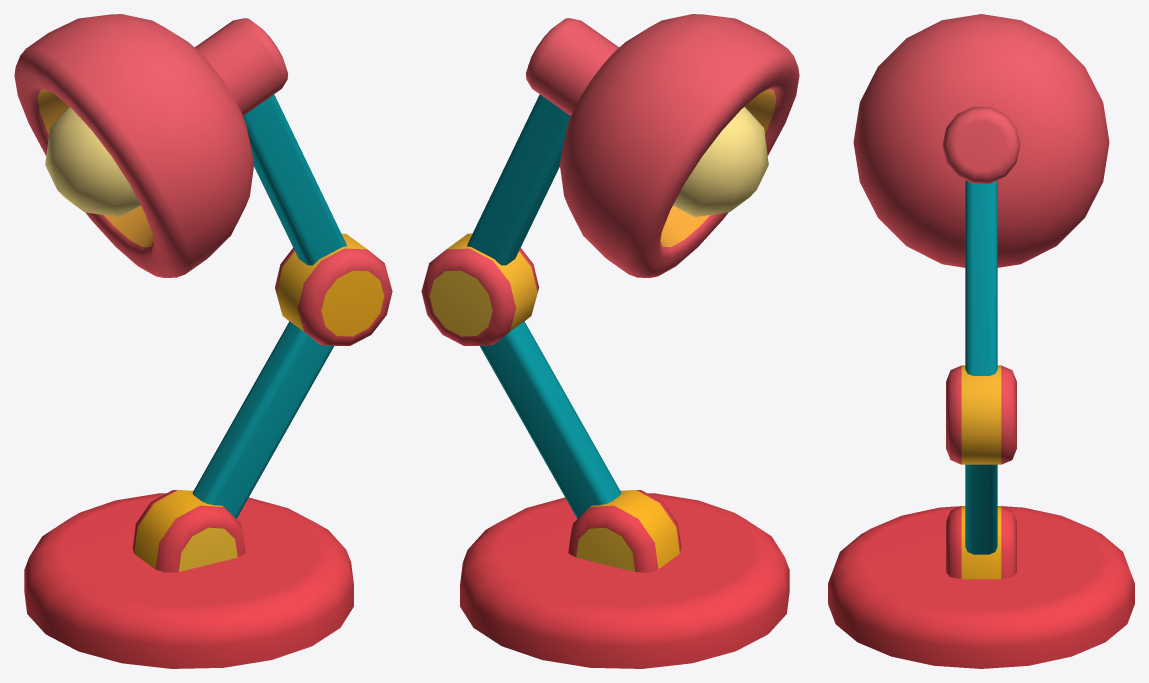
Rendered from Light_02.glb.
3 renders of one model, left to right at view 1: azimuth 30°, elevation 25°; view 2: azimuth 150°, elevation 25°; view 3: azimuth 270°, elevation 25°, orthographic. The views are drawn at different scales.
Parts seen in each view (by area): view 1: Light_02; view 2: Light_02; view 3: Light_02.
Boxes of the visible parts, x1,y1,x2,y2 form: Light_02: (14,14,392,668); Light_02: (421,14,799,668); Light_02: (828,14,1134,668).
Bounding box in the file's own units: 0.2674 × 0.4512 × 0.2293.
1 material, 1 textured.
